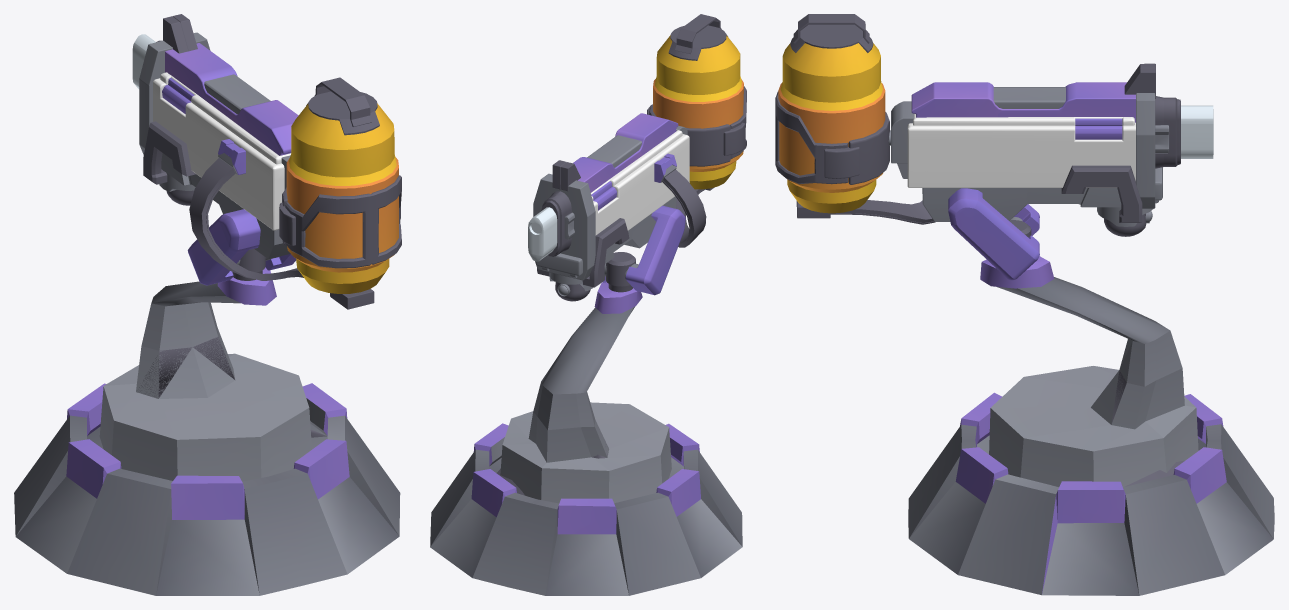
File: Breakable_Gun_05.fbx
The picture shows the model from 3 angles, left to right: view 1: azimuth 30°, elevation 25°; view 2: azimuth 150°, elevation 25°; view 3: azimuth 270°, elevation 25°; orthographic projection. The views are drawn at different scales.
Visible parts, largest first — view 1: polySurface230, polySurface2, polySurface232, Base, Cresta, Cilindro2, Gancho, sweep1, SoporteCamara, Protector, SoporteBase, BaseManijaCilindro (+11 smaller); view 2: polySurface232, polySurface230, polySurface2, Base, polySurface231, Gancho, Protector, Cresta, sweep1, PlacaCilindro_01, Boolean_Canon, SoporteCamara (+10 smaller); view 3: polySurface232, polySurface230, Base, polySurface2, Cresta, Gancho, polySurface231, SoporteBase, SoporteCamara, Protector, Cilindro2, Boolean_Canon (+11 smaller).
Boxes of the visible parts, x1=… form: polySurface230: x1=14, y1=337, x2=400, y2=595; polySurface2: x1=286, y1=103, x2=398, y2=293; polySurface232: x1=67, y1=302, x2=347, y2=437; Base: x1=153, y1=72, x2=290, y2=230; Cresta: x1=165, y1=43, x2=298, y2=155; Cilindro2: x1=285, y1=175, x2=401, y2=268; Gancho: x1=187, y1=209, x2=296, y2=285; sweep1: x1=189, y1=158, x2=303, y2=280; SoporteCamara: x1=143, y1=121, x2=195, y2=184; Protector: x1=139, y1=32, x2=210, y2=154; SoporteBase: x1=161, y1=153, x2=290, y2=258; BaseManijaCilindro: x1=306, y1=91, x2=379, y2=135; polySurface232: x1=430, y1=382, x2=628, y2=595; polySurface230: x1=496, y1=402, x2=742, y2=595; polySurface2: x1=653, y1=35, x2=743, y2=189; Base: x1=591, y1=129, x2=689, y2=235; polySurface231: x1=541, y1=306, x2=635, y2=394; Gancho: x1=602, y1=205, x2=685, y2=295; Protector: x1=533, y1=173, x2=595, y2=280; Cresta: x1=573, y1=113, x2=678, y2=192; sweep1: x1=662, y1=169, x2=706, y2=247; PlacaCilindro_01: x1=649, y1=106, x2=730, y2=166; Boolean_Canon: x1=528, y1=207, x2=557, y2=261; SoporteCamara: x1=537, y1=218, x2=629, y2=287; polySurface232: x1=1042, y1=330, x2=1274, y2=595; polySurface230: x1=908, y1=366, x2=1184, y2=595; Base: x1=907, y1=113, x2=1135, y2=187; polySurface2: x1=778, y1=43, x2=885, y2=213; Cresta: x1=911, y1=82, x2=1135, y2=122; Gancho: x1=948, y1=188, x2=1039, y2=280; polySurface231: x1=997, y1=277, x2=1169, y2=343; SoporteBase: x1=922, y1=188, x2=1121, y2=221; SoporteCamara: x1=1061, y1=165, x2=1142, y2=222; Protector: x1=1136, y1=93, x2=1155, y2=208; Cilindro2: x1=775, y1=91, x2=847, y2=184; Boolean_Canon: x1=1181, y1=105, x2=1213, y2=158.
Bounding box in the file's own units: 147 × 222 × 201.
Materials: 3 (3 with a texture image).
